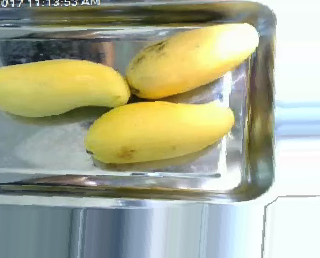Mango: (123, 20, 261, 101), (86, 99, 240, 170), (0, 58, 130, 120)
